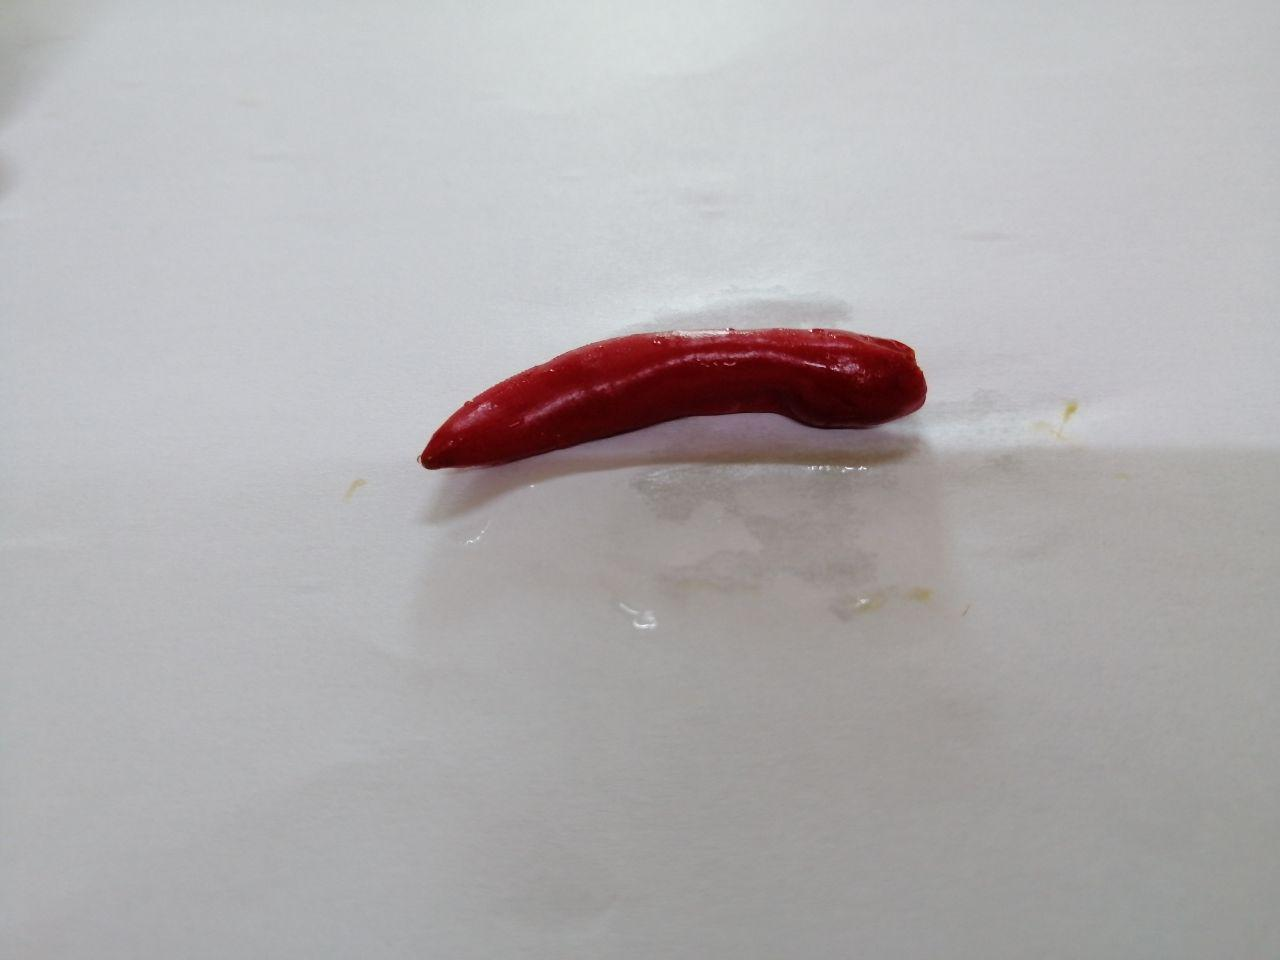lada merah: (396, 305, 997, 478)
